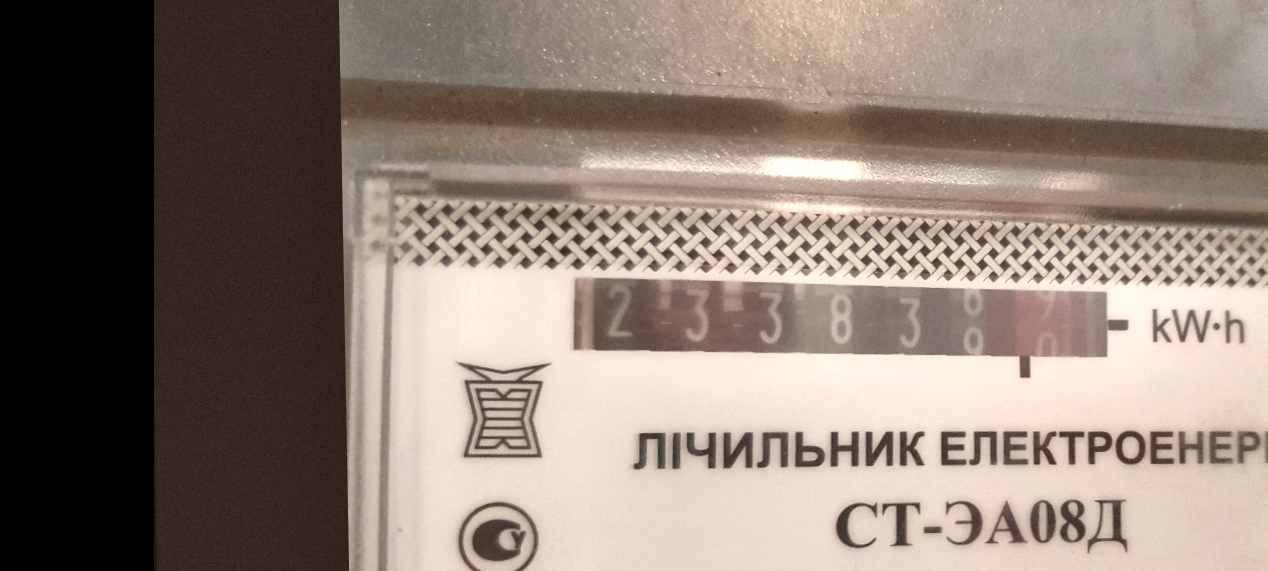0: (1034, 329, 1060, 363)
2: (601, 280, 640, 342)
3: (752, 285, 789, 349), (896, 292, 926, 349), (683, 285, 711, 344)
8: (824, 288, 859, 347), (961, 284, 988, 317)
9: (1031, 285, 1062, 324), (960, 323, 989, 360)
screen: (544, 245, 1139, 412)
